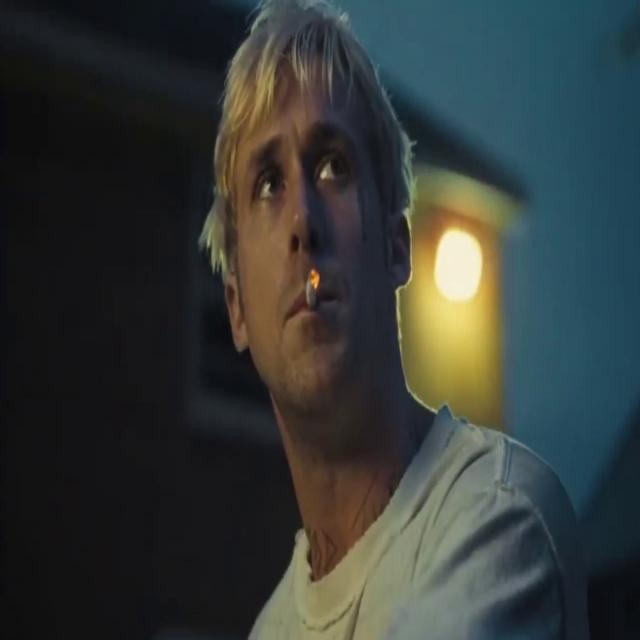Smooking: (292, 255, 326, 321)
